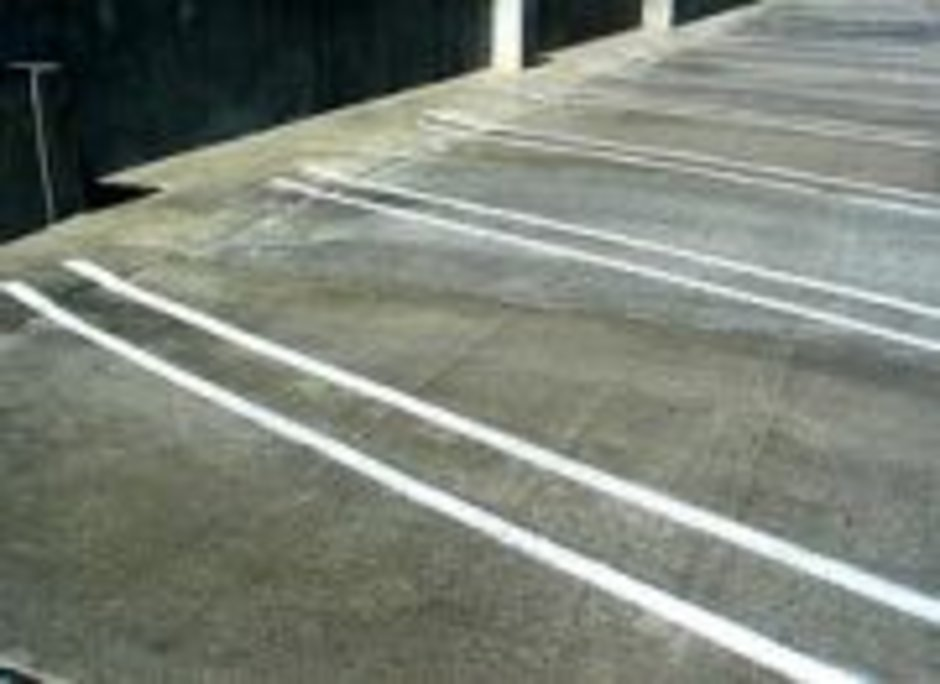empty_space: (10, 165, 939, 680), (261, 103, 940, 342), (415, 72, 940, 218)
